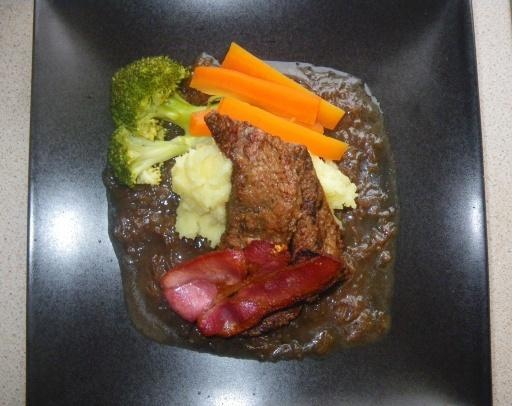background: (86, 25, 286, 214)
